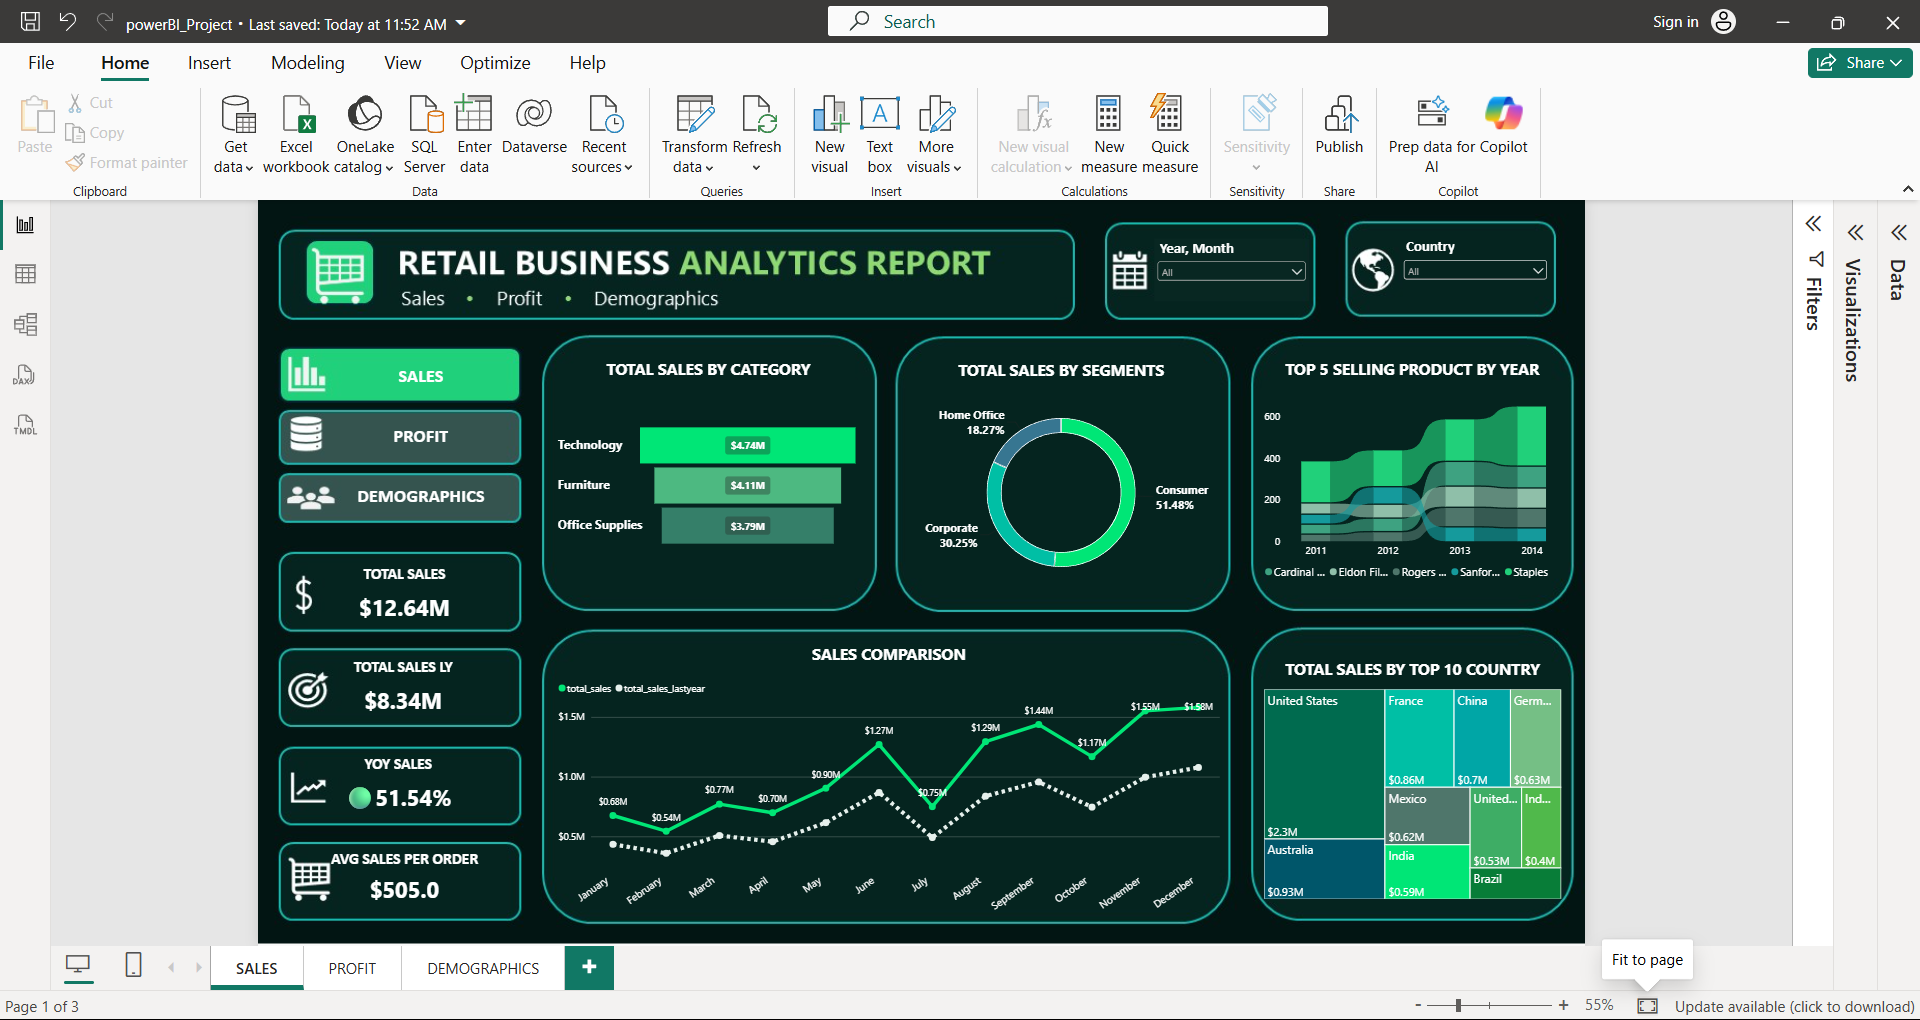

The dashboard page shown, as its layout file describes it:
{"tool":"powerbi","page":{"name":"SALES","canvas":[1920,1080],"ordinal":0},"visuals":[{"type":"slicer","fields":{"Values":["location_table.Country"]},"box":[1654,54.3,217.2,90.5],"z":0},{"type":"donutChart","title":"TOTAL SALES BY SEGMENTS","fields":{"Category":["customer_table.Segment"],"Y":["Sum(sales_table.Sales)"]},"box":[937.4,215.3,450.6,371],"z":1000},{"type":"lineChart","title":"SALES COMPARISON","fields":{"Category":["date_table.Date.Variation.Date Hierarchy.Month"],"Y":["Calculated_Table.total_sales","Calculated_Table.total_sales_lastyear"]},"box":[417.7,625.8,990.3,437.1],"z":2000},{"type":"funnel","title":"TOTAL SALES BY CATEGORY","fields":{"Category":["product_table.Category"],"Y":["Calculated_Table.total_sales"]},"box":[418,214,468,354],"z":3000},{"type":"ribbonChart","title":"TOP 5 SELLING PRODUCT BY YEAR","fields":{"Category":["date_table.Date.Variation.Date Hierarchy.Year"],"Series":["product_table.Product Name"],"Y":["Calculated_Table.total_qty"]},"box":[1440.8,214.1,461.1,356.1],"z":4000},{"type":"treemap","title":"TOTAL SALES BY TOP 10 COUNTRY","fields":{"Group":["location_table.Country"],"Values":["Calculated_Table.total_sales"]},"box":[1440,648,462,380],"z":5000},{"type":"card","title":"TOTAL SALES","fields":{"Values":["Calculated_Table.total_sales"]},"box":[47.5,512.5,330,112.5],"z":6000},{"type":"slicer","fields":{"Values":["date_table.year","date_table.month"]},"box":[1296.7,56.7,224.4,90.5],"z":7000},{"type":"pageNavigator","box":[105,215,262.5,255],"z":9000},{"type":"card","title":"AVG SALES PER ORDER","fields":{"Values":["Calculated_Table.avg_sales_per_order"]},"box":[47.3,924.2,330,105],"z":10000},{"type":"card","title":"YOY SALES","fields":{"Values":["Calculated_Table.YOY_growth"]},"box":[37.5,787.5,330,112.5],"z":11000},{"type":"card","title":"TOTAL SALES LY","fields":{"Values":["Calculated_Table.total_sales_lastyear"]},"box":[45,647.5,330,112.5],"z":12000}]}

Visuals, with their boxes on the page's 1920x1080 design canvas (x1, y1, x2, y2). These are canvas units, not pixel positions in the 1920x1020 screenshot, which may show the page scaled, cropped or inside an application window:
slicer - location_table.Country: BBox(1654, 54, 1871, 145)
"TOTAL SALES BY SEGMENTS" donutChart: BBox(937, 215, 1388, 586)
"SALES COMPARISON" lineChart: BBox(418, 626, 1408, 1063)
"TOTAL SALES BY CATEGORY" funnel: BBox(418, 214, 886, 568)
"TOP 5 SELLING PRODUCT BY YEAR" ribbonChart: BBox(1441, 214, 1902, 570)
"TOTAL SALES BY TOP 10 COUNTRY" treemap: BBox(1440, 648, 1902, 1028)
"TOTAL SALES" card: BBox(48, 512, 378, 625)
slicer - date_table.year x date_table.month: BBox(1297, 57, 1521, 147)
pageNavigator: BBox(105, 215, 368, 470)
"AVG SALES PER ORDER" card: BBox(47, 924, 377, 1029)
"YOY SALES" card: BBox(38, 788, 368, 900)
"TOTAL SALES LY" card: BBox(45, 648, 375, 760)
